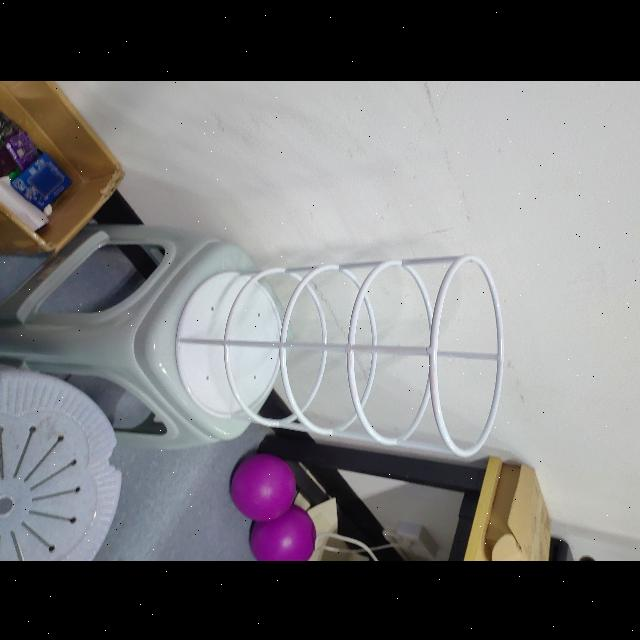S: (170, 247, 510, 458)
